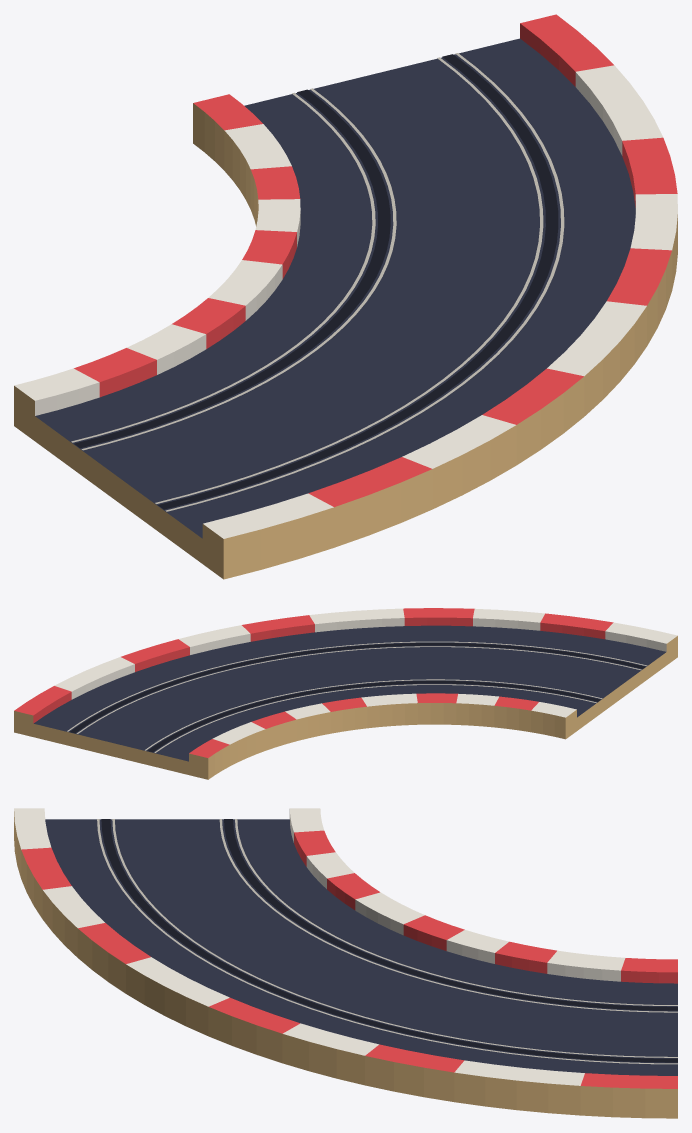
Rendered from Track_2L_Curve90Tight_R.fbx.
3 renders of one model, top to bottom at view 1: azimuth 30°, elevation 25°; view 2: azimuth 150°, elevation 25°; view 3: azimuth 270°, elevation 25°, orthographic. The views are drawn at different scales.
Visible parts, largest first — view 1: Track_2L_Curve90Tight_R; view 2: Track_2L_Curve90Tight_R; view 3: Track_2L_Curve90Tight_R.
Boxes of the visible parts, x1=… form: Track_2L_Curve90Tight_R: x1=14, y1=14, x2=677, y2=579; Track_2L_Curve90Tight_R: x1=14, y1=608, x2=677, y2=779; Track_2L_Curve90Tight_R: x1=14, y1=808, x2=677, y2=1118.
Bounding box in the file's own units: 6.5 × 0.32 × 6.5.
